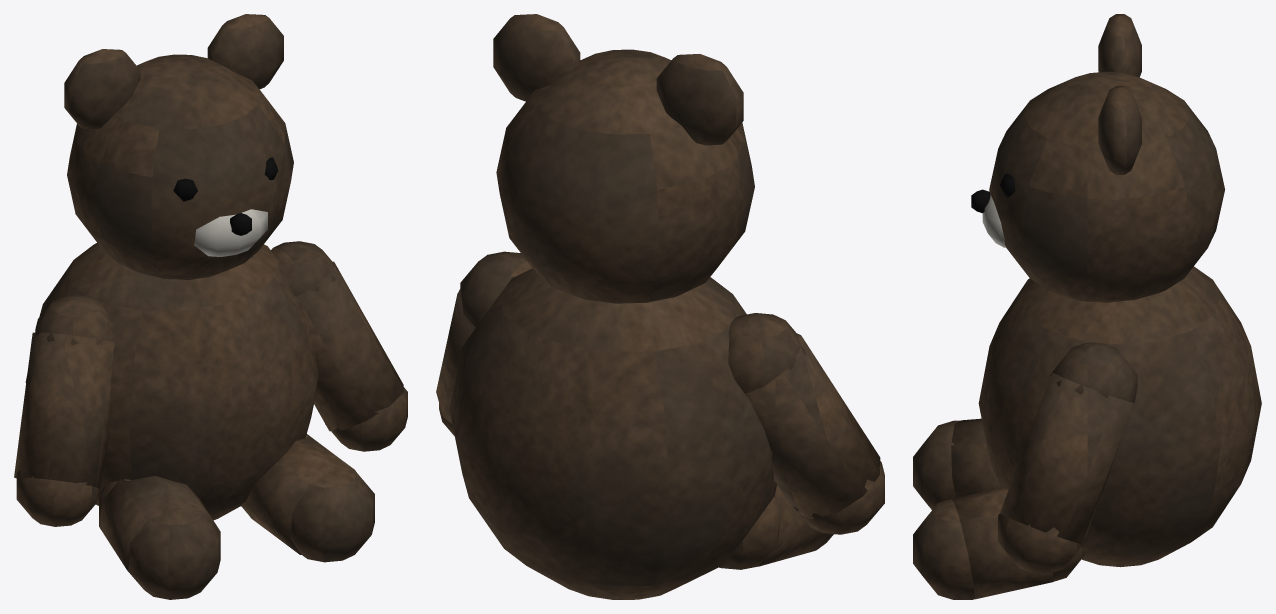
Rendered from TY11_plush_animal_v1.glb.
The picture shows the model from 3 angles, left to right: view 1: azimuth 30°, elevation 25°; view 2: azimuth 150°, elevation 25°; view 3: azimuth 270°, elevation 25°; orthographic projection. The views are drawn at different scales.
Parts seen in each view (by area): view 1: TY11_plush_animal_v1; view 2: TY11_plush_animal_v1; view 3: TY11_plush_animal_v1.
Boxes of the visible parts, x1,y1,x2,y2 form: TY11_plush_animal_v1: [14, 14, 407, 599]; TY11_plush_animal_v1: [436, 14, 884, 599]; TY11_plush_animal_v1: [913, 14, 1261, 599].
Bounding box in the file's own units: 0.3237 × 0.4 × 0.2504.
3 materials, 3 textured.
